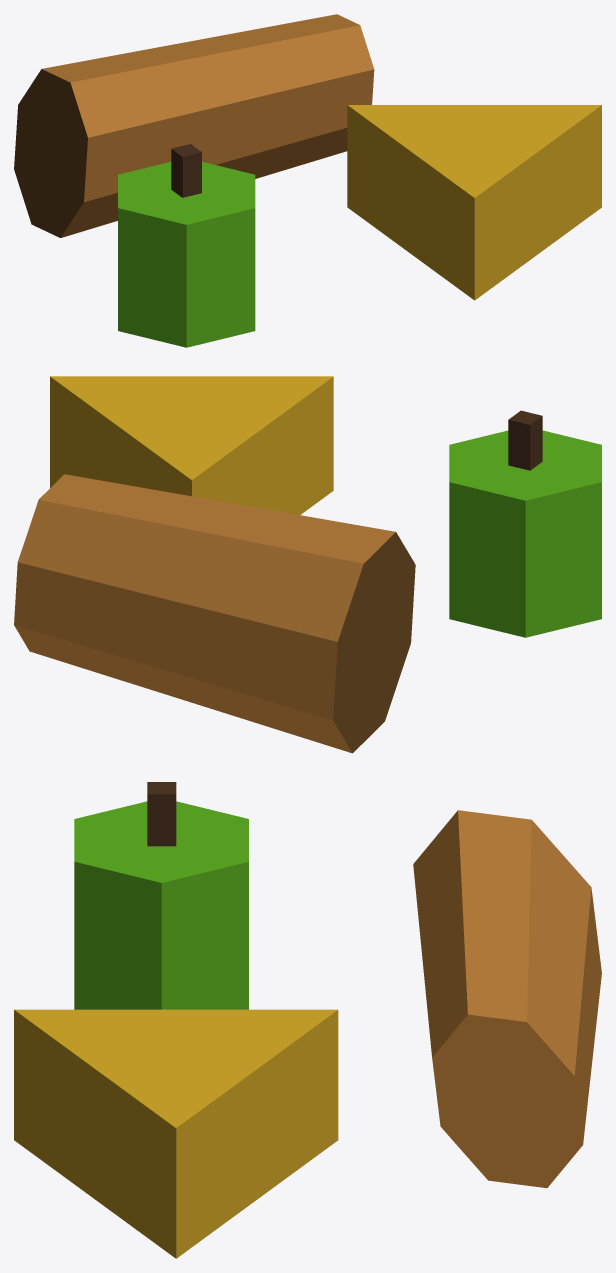
Rendered from rations.glb.
3 views of the same model, one above another, from view 1: azimuth 30°, elevation 25°; view 2: azimuth 150°, elevation 25°; view 3: azimuth 270°, elevation 25° (orthographic). The views are drawn at different scales.
Parts seen in each view (by area): view 1: rations; view 2: rations; view 3: rations.
Boxes of the visible parts, box(x1,y1,x2,y2) form: rations: box(14, 14, 601, 347); rations: box(14, 376, 601, 753); rations: box(14, 782, 601, 1258).
Size of the model in its own units: 0.625 by 0.2289 by 0.5101.
